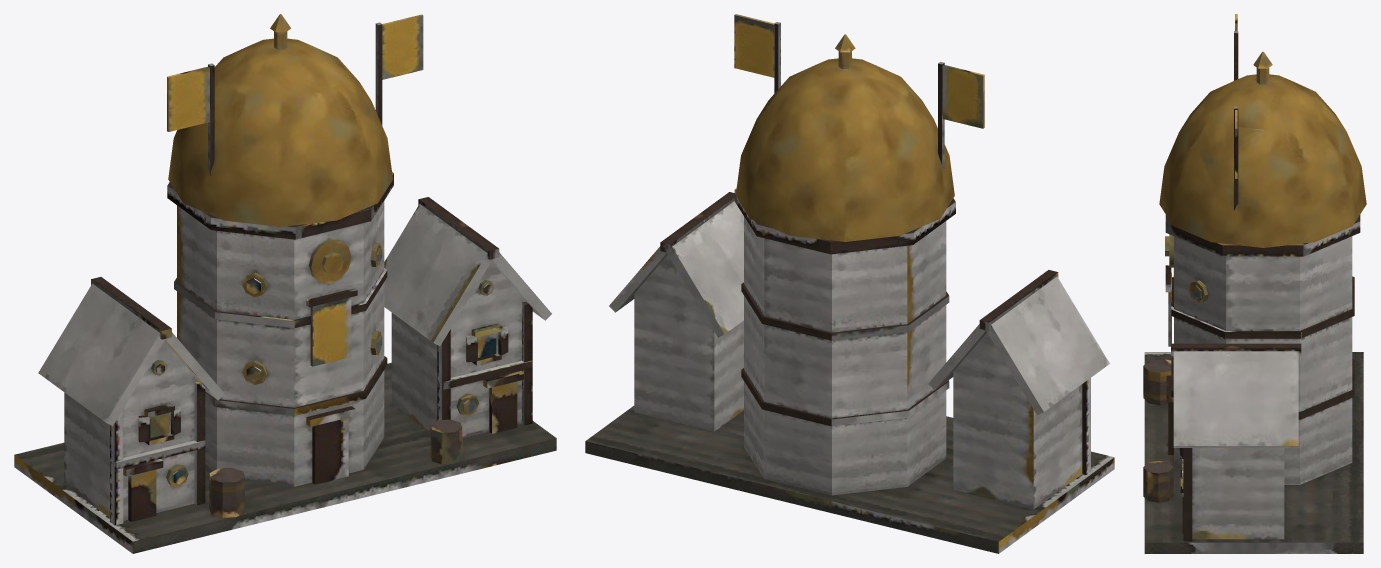
File: pirate_plank_capital_guilds.glb
3 renders of one model, left to right at view 1: azimuth 30°, elevation 25°; view 2: azimuth 150°, elevation 25°; view 3: azimuth 270°, elevation 25°, orthographic. The views are drawn at different scales.
Parts seen in each view (by area): view 1: WoodBody, FixedDetails, BrassTrim; view 2: WoodBody, FixedDetails, BrassTrim; view 3: WoodBody, BrassTrim, FixedDetails.
Part boxes in pixels (x1,y1,x2,y2): WoodBody: (38, 201, 551, 520); FixedDetails: (14, 14, 556, 553); BrassTrim: (151, 14, 493, 486); WoodBody: (609, 201, 1109, 509); FixedDetails: (585, 14, 1114, 553); BrassTrim: (735, 34, 954, 241); WoodBody: (1173, 236, 1352, 539); BrassTrim: (1159, 51, 1366, 302); FixedDetails: (1143, 14, 1363, 553).
Size of the model in its own units: 0.5316 by 0.502 by 0.25.
3 materials, 3 textured.
